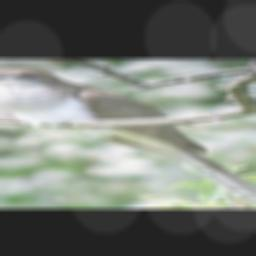Cuckoo: (0, 67, 256, 204)
